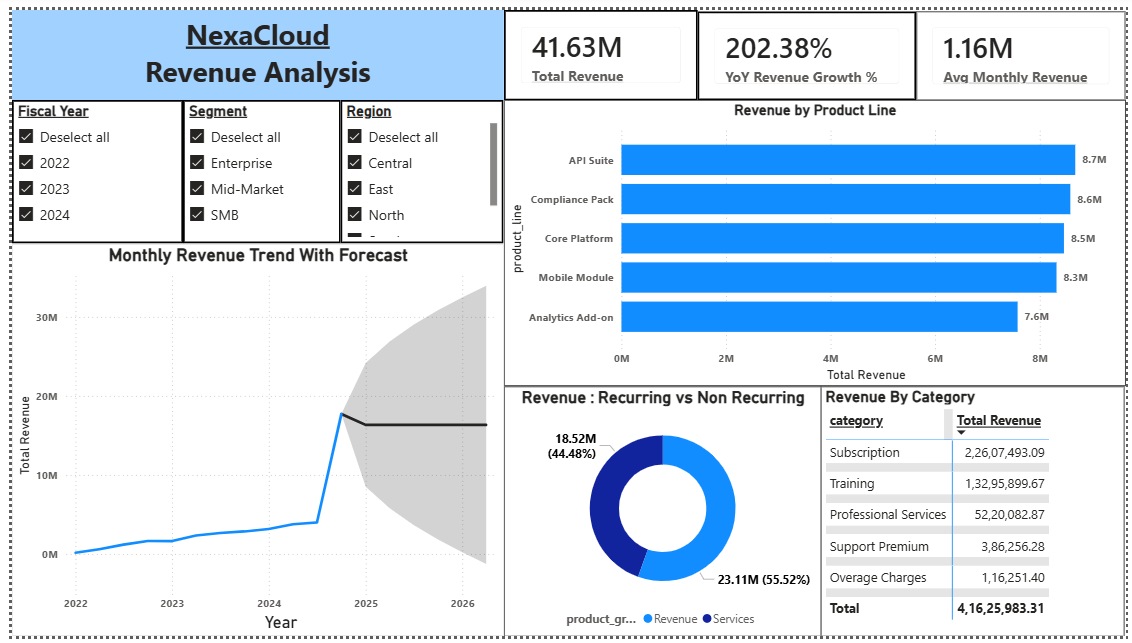

What the dashboard file says about the page in this screenshot:
{"tool":"powerbi","page":{"name":"Revenue Analysis","canvas":[1280,720],"ordinal":1},"visuals":[{"type":"textbox","box":[0,0,565,103.9],"z":0},{"type":"cardVisual","fields":{"Data":["Revenue_Measures.Total Revenue"]},"box":[565,0,223,103.9],"z":1000},{"type":"cardVisual","fields":{"Data":["Revenue_Measures.YoY Revenue Growth %"]},"box":[788,1.9,251.3,102],"z":2000},{"type":"cardVisual","fields":{"Data":["Revenue_Measures.Avg Monthly Revenue"]},"box":[1039.4,1.9,240,102],"z":3000},{"type":"lineChart","title":"Monthly Revenue Trend With Forecast","fields":{"Y":["Revenue_Measures.Total Revenue"],"Category":["finops360 dim_date.full_date.Variation.Date Hierarchy.Year","finops360 dim_date.full_date.Variation.Date Hierarchy.Quarter","finops360 dim_date.full_date.Variation.Date Hierarchy.Month","finops360 dim_date.full_date.Variation.Date Hierarchy.Day"]},"box":[0,268.3,565,451.7],"z":4000},{"type":"clusteredBarChart","title":" Revenue by Product Line","fields":{"Category":["finops360 dim_product.product_line"],"Y":["Revenue_Measures.Total Revenue"]},"box":[565,103.9,714.3,328.8],"z":5000},{"type":"pivotTable","title":"Revenue By Category","fields":{"Rows":["finops360 dim_product.category"],"Values":["Revenue_Measures.Total Revenue"]},"box":[929.8,432.8,349.6,287.2],"z":6000},{"type":"donutChart","title":"Revenue : Recurring vs Non Recurring","fields":{"Category":["finops360 dim_product.product_group"],"Y":["Revenue_Measures.Total Revenue"]},"box":[565,432.8,364.7,287.2],"z":7000},{"type":"listSlicer","title":"Fiscal Year","fields":{"Values":["finops360 dim_date.fiscal_year"]},"box":[0,103.9,196.5,164.4],"z":8000},{"type":"listSlicer","title":"Segment","fields":{"Values":["finops360 fact_transactions.segment"]},"box":[196.5,103.9,181.4,164.4],"z":9000},{"type":"listSlicer","title":"Region","fields":{"Values":["finops360 fact_transactions.region"]},"box":[378,103.9,187.1,164.4],"z":10000}]}

Visuals, with their boxes in screenshot pixels (x1, y1, x2, y2), scaled from the page's 1280x720 canvas onto the 1132x643 screenshot:
textbox: [x1=0, y1=0, x2=500, y2=93]
cardVisual - Revenue_Measures.Total Revenue: [x1=500, y1=0, x2=697, y2=93]
cardVisual - Revenue_Measures.YoY Revenue Growth %: [x1=697, y1=2, x2=919, y2=93]
cardVisual - Revenue_Measures.Avg Monthly Revenue: [x1=919, y1=2, x2=1131, y2=93]
"Monthly Revenue Trend With Forecast" lineChart: [x1=0, y1=240, x2=500, y2=642]
" Revenue by Product Line" clusteredBarChart: [x1=500, y1=93, x2=1131, y2=386]
"Revenue By Category" pivotTable: [x1=822, y1=387, x2=1131, y2=642]
"Revenue : Recurring vs Non Recurring" donutChart: [x1=500, y1=387, x2=822, y2=642]
"Fiscal Year" listSlicer: [x1=0, y1=93, x2=174, y2=240]
"Segment" listSlicer: [x1=174, y1=93, x2=334, y2=240]
"Region" listSlicer: [x1=334, y1=93, x2=500, y2=240]
